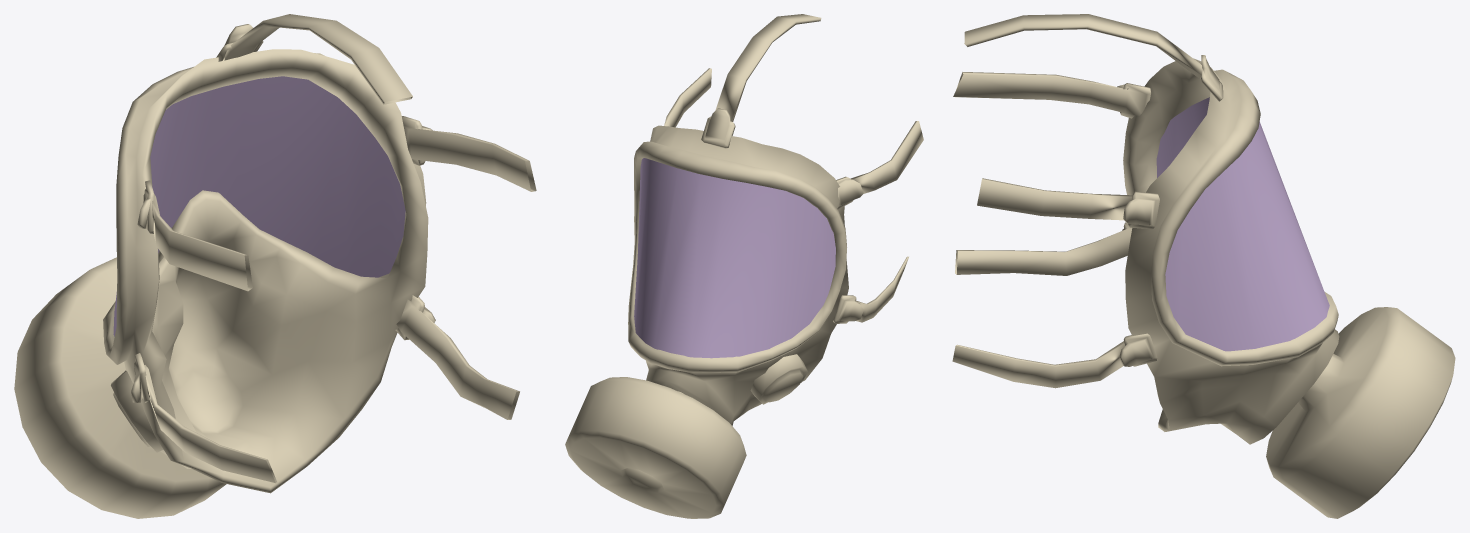
Rendered from Gasmask.fbx.
3 views of the same model, side by side, from view 1: azimuth 30°, elevation 25°; view 2: azimuth 150°, elevation 25°; view 3: azimuth 270°, elevation 25° (orthographic). The views are drawn at different scales.
Visible parts, largest first — view 1: Bandit4; view 2: Bandit4; view 3: Bandit4.
Part boxes in pixels (bbox=[...]): Bandit4: bbox=[14, 14, 536, 518]; Bandit4: bbox=[565, 14, 923, 518]; Bandit4: bbox=[952, 14, 1455, 518].
Bounding box in the file's own units: 18.73 × 32.85 × 30.47.
